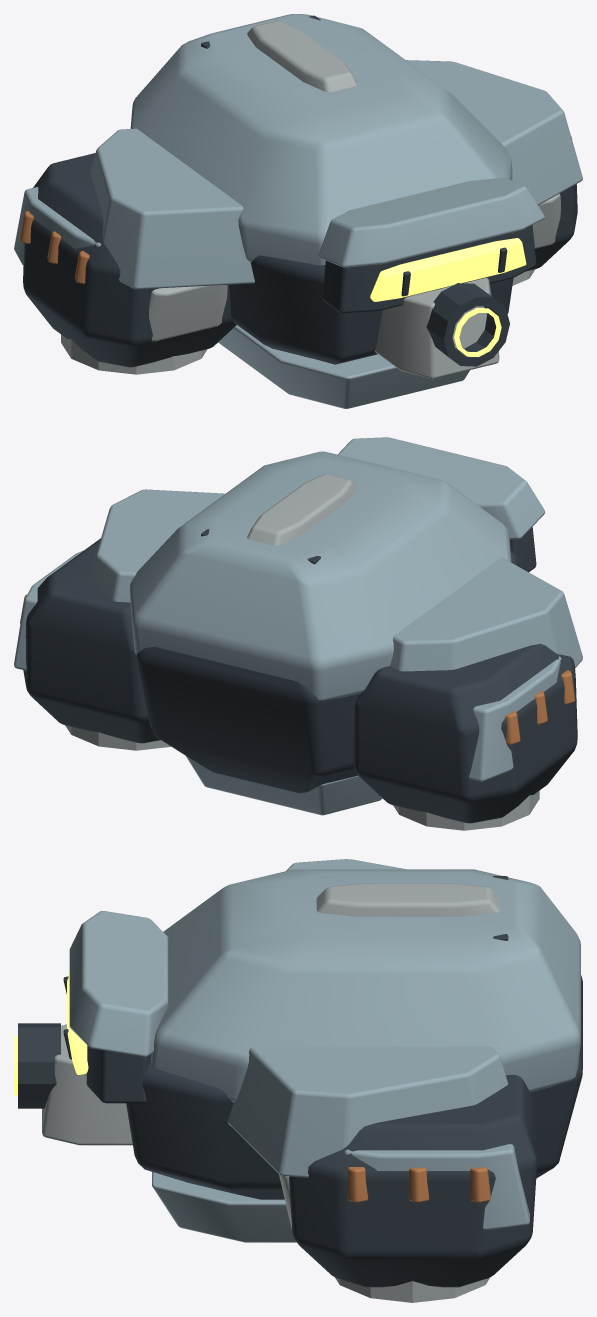
Rendered from EnemyDrone.fbx.
3 renders of one model, top to bottom at view 1: azimuth 30°, elevation 25°; view 2: azimuth 150°, elevation 25°; view 3: azimuth 270°, elevation 25°, orthographic. The views are drawn at different scales.
Visible parts, largest first — view 1: DroneArmor Mesh, DroneGraphite Mesh, DroneAlloy Mesh, DroneOpticGlow Mesh, DroneCopper Mesh; view 2: DroneArmor Mesh, DroneGraphite Mesh, DroneAlloy Mesh, DroneCopper Mesh; view 3: DroneArmor Mesh, DroneGraphite Mesh, DroneAlloy Mesh, DroneCopper Mesh, DroneOpticGlow Mesh.
Part boxes in pixels (bbox=[...]): DroneArmor Mesh: bbox=[14, 14, 582, 408]; DroneGraphite Mesh: bbox=[23, 15, 577, 367]; DroneAlloy Mesh: bbox=[61, 20, 560, 378]; DroneOpticGlow Mesh: bbox=[370, 238, 526, 356]; DroneCopper Mesh: bbox=[20, 136, 572, 283]; DroneArmor Mesh: bbox=[14, 437, 582, 815]; DroneGraphite Mesh: bbox=[23, 527, 577, 823]; DroneAlloy Mesh: bbox=[65, 474, 539, 830]; DroneCopper Mesh: bbox=[20, 594, 575, 744]; DroneArmor Mesh: bbox=[69, 859, 580, 1242]; DroneGraphite Mesh: bbox=[18, 876, 582, 1287]; DroneAlloy Mesh: bbox=[42, 883, 500, 1302]; DroneCopper Mesh: bbox=[347, 1167, 490, 1202]; DroneOpticGlow Mesh: bbox=[14, 971, 88, 1095].
Size of the model in its own units: 1.26 by 0.671 by 1.12.
